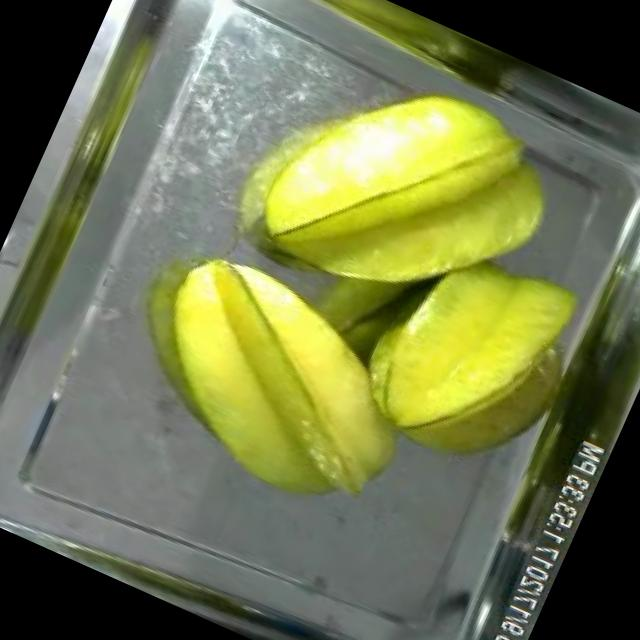fruit: (223, 19, 600, 367), (104, 228, 456, 542), (330, 193, 616, 496)
